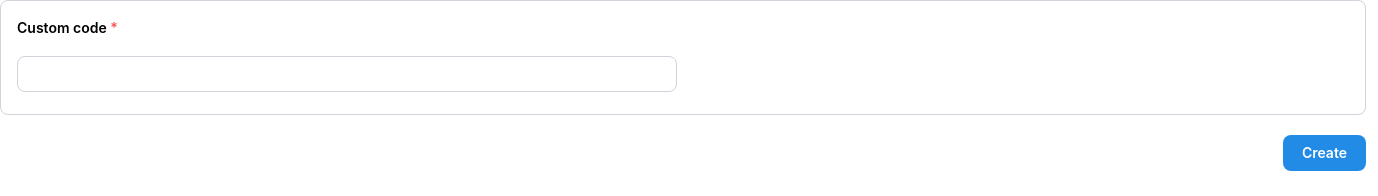
Test: AdminCustomField integration › participates in form state, validation errors, and payload mapping
This screenshot has width=1378, height=196.
Later steps or results of the test are not shown.
Step 1. Click the button "Create" → (1324, 153), box [1283, 135, 1366, 171]
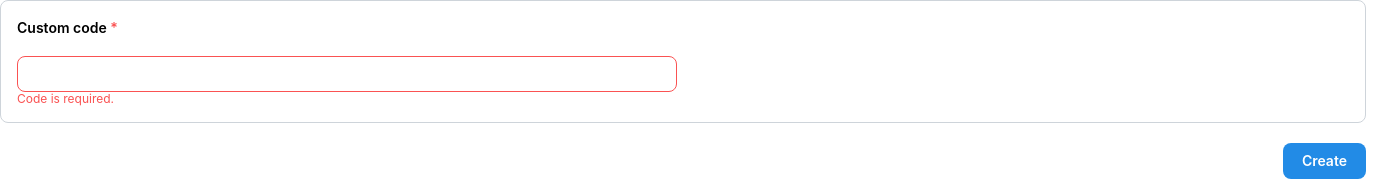
Expected: the text "Code is required." is shown, [17, 91, 114, 106]
